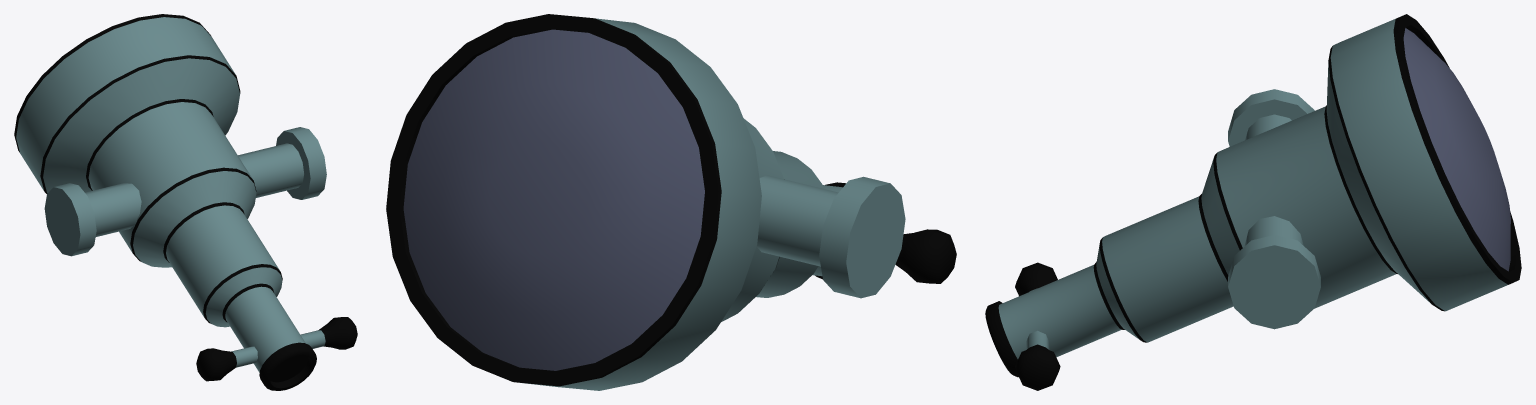
Rendered from DI_074_telescope.glb.
3 views of the same model, side by side, from view 1: azimuth 30°, elevation 25°; view 2: azimuth 150°, elevation 25°; view 3: azimuth 270°, elevation 25° (orthographic). The views are drawn at different scales.
Parts seen in each view (by area): view 1: Telescope, Support, AdjustmentLevers; view 2: Telescope, Support, AdjustmentLevers; view 3: Telescope, Support, AdjustmentLevers.
Boxes of the visible parts, x1,y1,x2,y2 form: Telescope: (14, 14, 316, 390); Support: (44, 127, 326, 256); AdjustmentLevers: (196, 317, 357, 381); Telescope: (386, 14, 845, 390); Support: (756, 175, 905, 298); AdjustmentLevers: (895, 229, 956, 283); Telescope: (985, 14, 1521, 377); Support: (1228, 89, 1320, 329); AdjustmentLevers: (1015, 262, 1060, 390).
Size of the model in its own units: 2.32 by 2.38 by 3.36.
